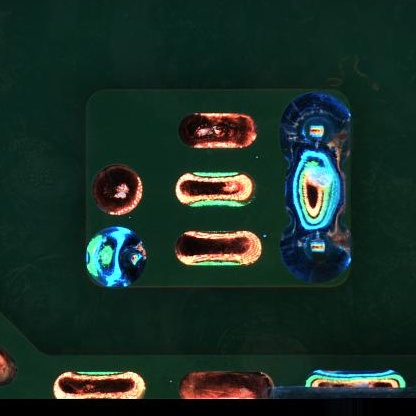spot: (278, 91, 355, 163), (280, 221, 354, 283), (85, 226, 149, 290)
